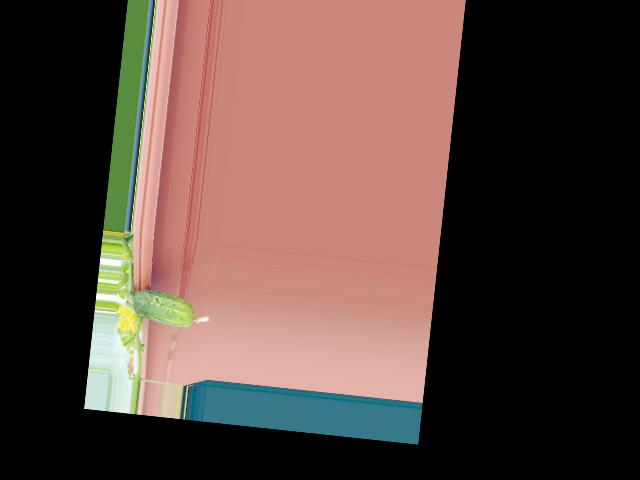cucumber: (130, 288, 212, 330)
